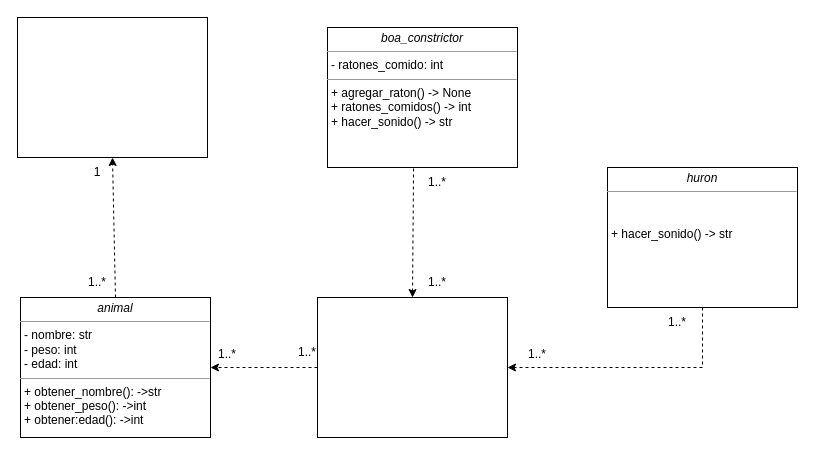
Some shapes in this 815 by 455 pixel diagram are drawn without their labels. The shapes that lost their labels are listed below. From the top down, each one's box as (x1, y1, x2, y2) in pixels, then its label:
(16, 16, 208, 158): ianimal + hacer_sonido() -> pass
(316, 296, 508, 438): animal_exotico - pais_origien: str - impuestos: float + calcular_flete() -> str
